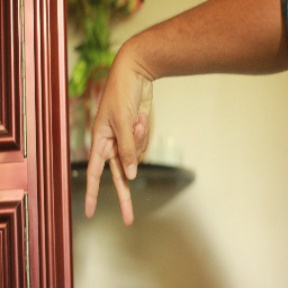Y: (80, 77, 160, 233)
